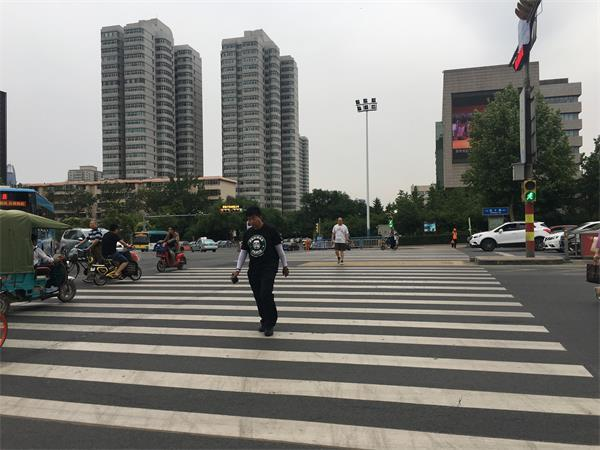bus: (0, 187, 56, 219)
car: (468, 221, 552, 251), (558, 222, 600, 254), (59, 228, 104, 257), (541, 224, 579, 252), (586, 239, 600, 294), (194, 238, 218, 253)
motorcycle: (87, 251, 145, 286), (153, 246, 186, 272)
person: (231, 207, 289, 337), (101, 224, 137, 279), (27, 236, 56, 283), (66, 236, 92, 279), (330, 218, 351, 265), (160, 227, 181, 265), (385, 231, 398, 250), (302, 235, 313, 256), (449, 225, 458, 249)
traffic light: (522, 179, 538, 203)
